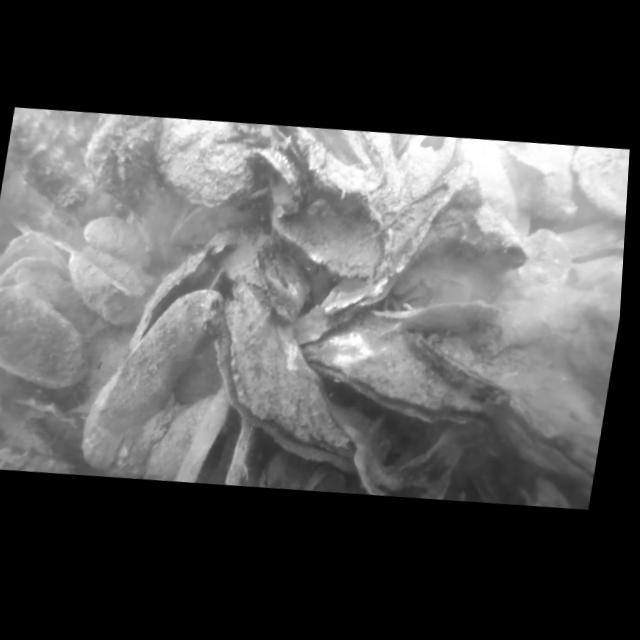Oyster-Closed: (288, 307, 505, 436), (478, 390, 606, 492), (57, 242, 164, 332), (403, 327, 517, 406)
Oyster-Indeterminate: (77, 278, 226, 479), (487, 223, 577, 352), (0, 278, 98, 392), (76, 212, 156, 271)
Oyster-Open: (180, 259, 387, 477), (125, 236, 229, 354), (173, 377, 261, 488), (0, 225, 76, 304)
